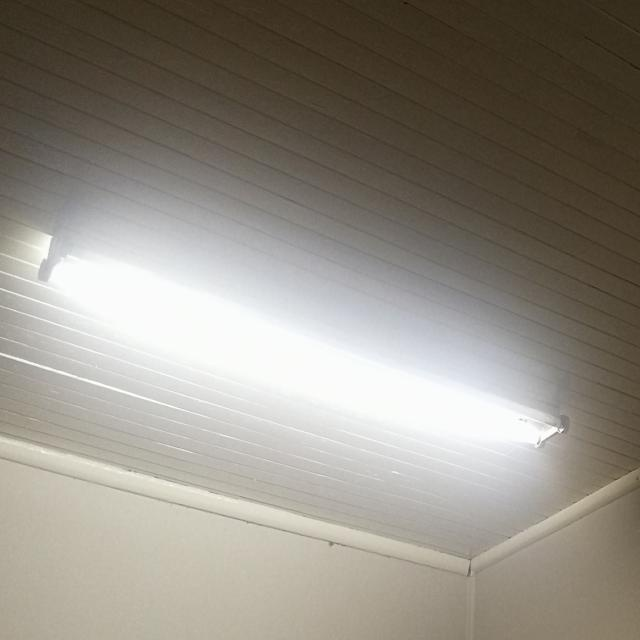fluorescent tube: (24, 207, 594, 489)
